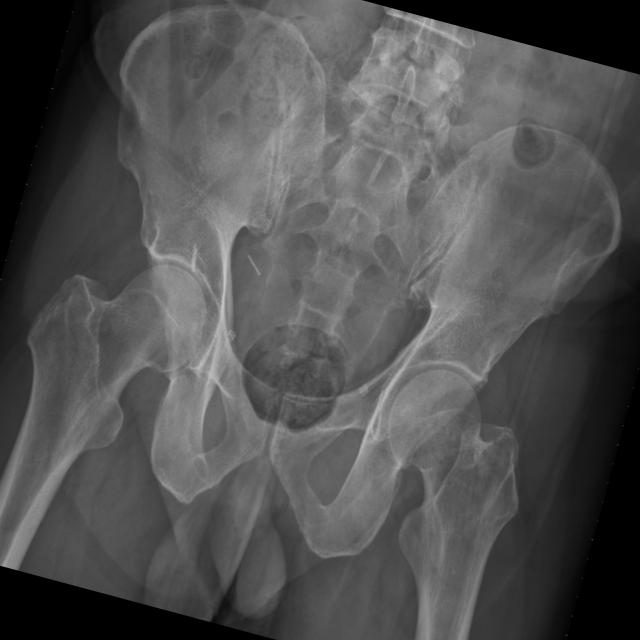normal-left: (388, 370, 519, 640)
normal-right: (0, 263, 206, 570)
